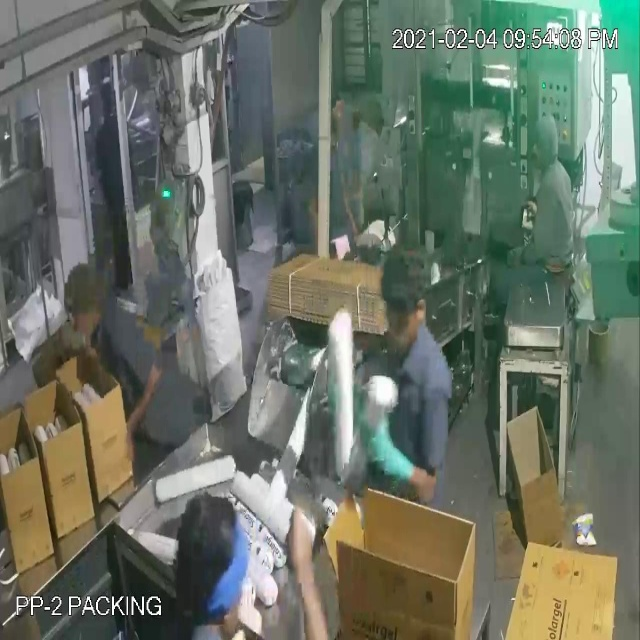Guantes: (354, 404, 420, 501)
Sin_guantes: (116, 348, 169, 485), (336, 166, 360, 248)
